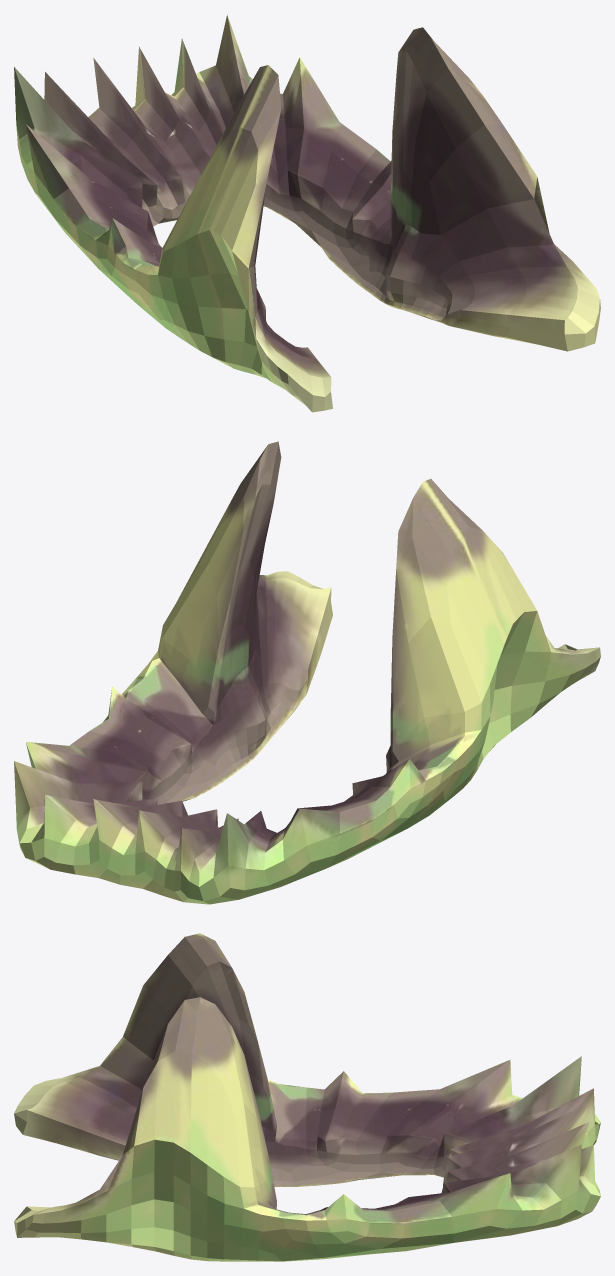
The model's file is Carcass_Skull_Jaw.fbx.
3 renders of one model, top to bottom at view 1: azimuth 30°, elevation 25°; view 2: azimuth 150°, elevation 25°; view 3: azimuth 270°, elevation 25°, orthographic. The views are drawn at different scales.
Visible parts, largest first — view 1: Jawbone; view 2: Jawbone; view 3: Jawbone.
Boxes of the visible parts, x1,y1,x2,y2 form: Jawbone: [14, 15, 600, 412]; Jawbone: [14, 441, 600, 904]; Jawbone: [14, 933, 600, 1261].
Size of the model in its own units: 0.518 by 0.9573 by 0.4495.
